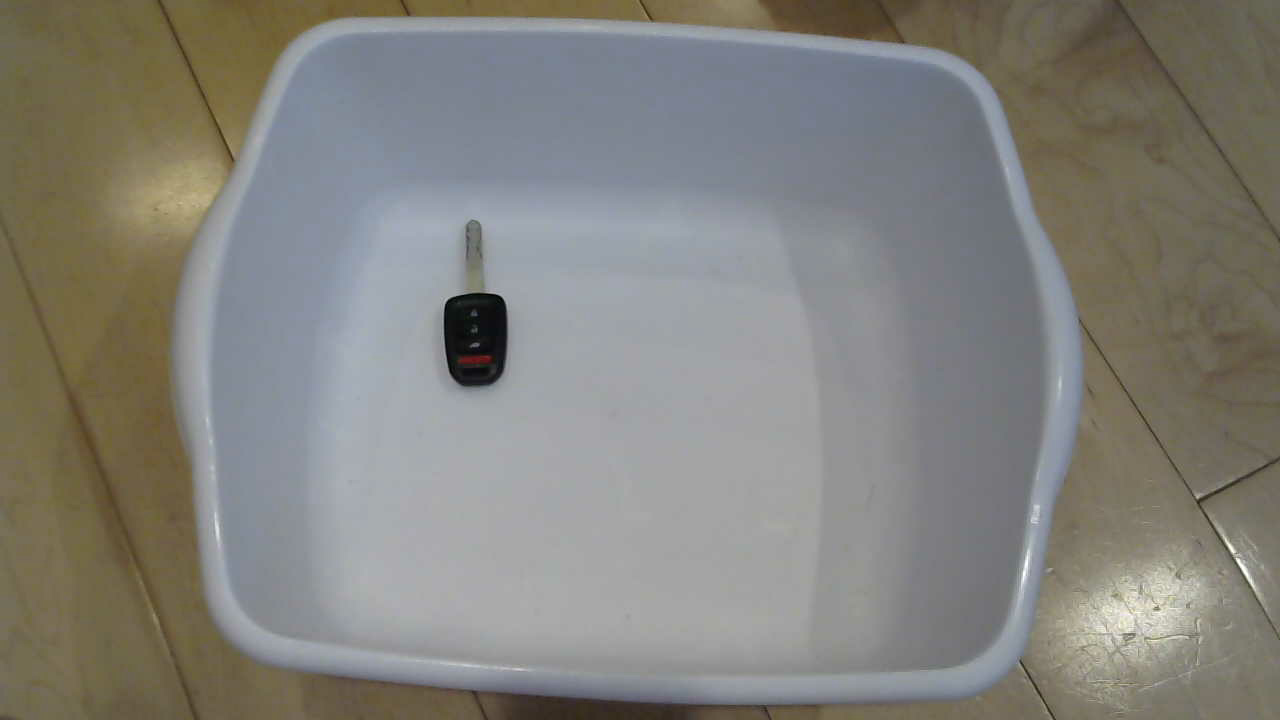key: (406, 199, 530, 404)
